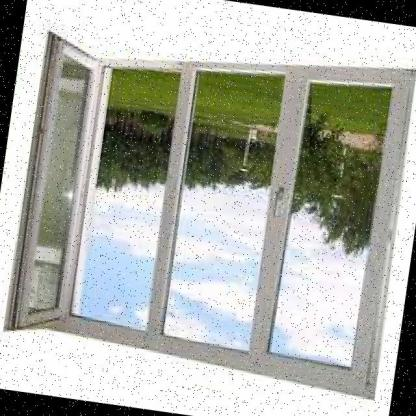Window: (2, 16, 416, 399)
